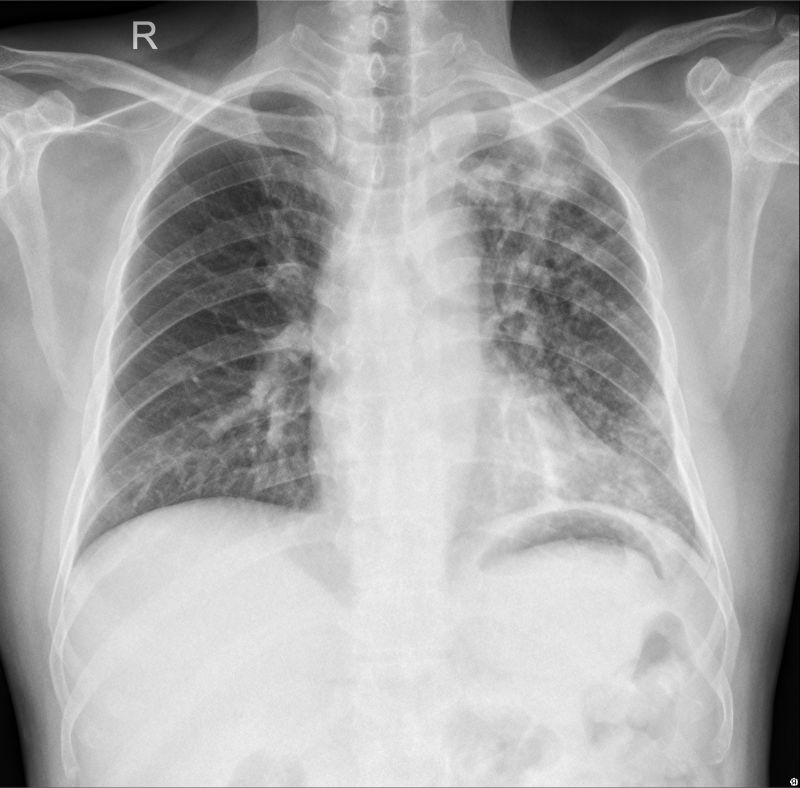Tuberculosis (TB): (480, 136, 599, 346)
